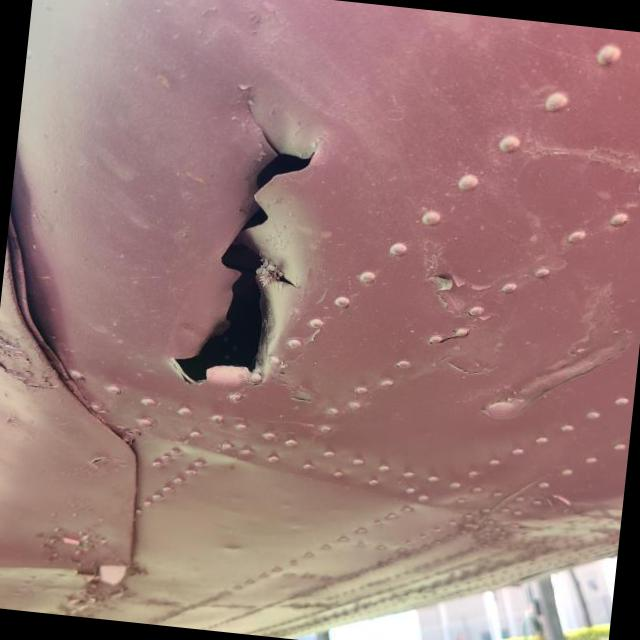Crack: (172, 240, 263, 383), (257, 153, 310, 187)
Paint-off: (425, 272, 490, 345)
